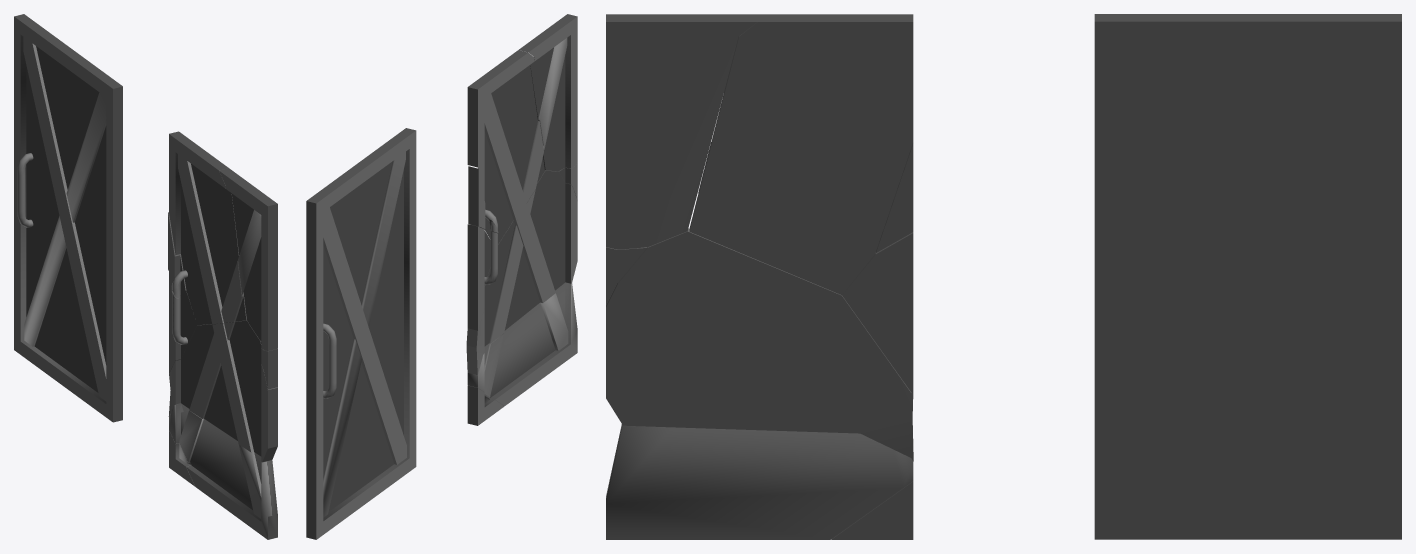
Rendered from Metal Door.glb.
The picture shows the model from 3 angles, left to right: view 1: azimuth 30°, elevation 25°; view 2: azimuth 150°, elevation 25°; view 3: azimuth 270°, elevation 25°; orthographic projection. The views are drawn at different scales.
Visible parts, largest first — view 1: Door_placeholder_Scene.002, Door_placeholder.007_Scene.008, Door_placeholder.006_Scene.007, Door_placeholder.008_Scene.009, Door_placeholder.004_Scene.005, Door_placeholder.005_Scene.006, Door_placeholder.010_Scene.011, Door_placeholder.014_Scene.015, Door_placeholder.002_Scene.018; view 2: Door_placeholder_Scene.002, Door_placeholder.006_Scene.007, Door_placeholder.007_Scene.008, Door_placeholder.008_Scene.009, Door_placeholder.004_Scene.005, Door_placeholder.005_Scene.006, Door_placeholder.002_Scene.018, Door_placeholder.010_Scene.011, Door_placeholder.014_Scene.015; view 3: Door_placeholder_Scene.002, Door_placeholder.007_Scene.008, Door_placeholder.006_Scene.007, Door_placeholder.008_Scene.009, Door_placeholder.004_Scene.005, Door_placeholder.005_Scene.006, Door_placeholder.010_Scene.011, Door_placeholder.002_Scene.018, Door_placeholder.014_Scene.015.
Part boxes in pixels (left/top/right/bottom): Door_placeholder_Scene.002: left=14, top=14, right=122, bottom=422; Door_placeholder.007_Scene.008: left=169, top=131, right=246, bottom=325; Door_placeholder.006_Scene.007: left=168, top=320, right=277, bottom=462; Door_placeholder.008_Scene.009: left=169, top=403, right=277, bottom=539; Door_placeholder.004_Scene.005: left=219, top=168, right=277, bottom=350; Door_placeholder.005_Scene.006: left=169, top=272, right=197, bottom=372; Door_placeholder.010_Scene.011: left=169, top=430, right=194, bottom=486; Door_placeholder.014_Scene.015: left=260, top=340, right=277, bottom=389; Door_placeholder.002_Scene.018: left=168, top=212, right=186, bottom=290; Door_placeholder_Scene.002: left=306, top=128, right=416, bottom=539; Door_placeholder.006_Scene.007: left=466, top=170, right=577, bottom=374; Door_placeholder.007_Scene.008: left=467, top=50, right=544, bottom=244; Door_placeholder.008_Scene.009: left=467, top=282, right=577, bottom=406; Door_placeholder.004_Scene.005: left=519, top=14, right=577, bottom=171; Door_placeholder.005_Scene.006: left=467, top=224, right=497, bottom=330; Door_placeholder.002_Scene.018: left=468, top=166, right=485, bottom=229; Door_placeholder.010_Scene.011: left=467, top=385, right=504, bottom=425; Door_placeholder.014_Scene.015: left=558, top=163, right=577, bottom=200; Door_placeholder_Scene.002: left=1094, top=14, right=1401, bottom=539; Door_placeholder.007_Scene.008: left=689, top=14, right=913, bottom=294; Door_placeholder.006_Scene.007: left=606, top=228, right=913, bottom=461; Door_placeholder.008_Scene.009: left=606, top=424, right=913, bottom=539; Door_placeholder.004_Scene.005: left=606, top=14, right=757, bottom=249; Door_placeholder.005_Scene.006: left=842, top=232, right=913, bottom=392; Door_placeholder.010_Scene.011: left=831, top=481, right=913, bottom=539; Door_placeholder.002_Scene.018: left=876, top=143, right=913, bottom=252; Door_placeholder.014_Scene.015: left=606, top=247, right=647, bottom=305.
Bounding box in the file's own units: 0.1854 × 2.8 × 3.88.
2 materials, 2 textured.
